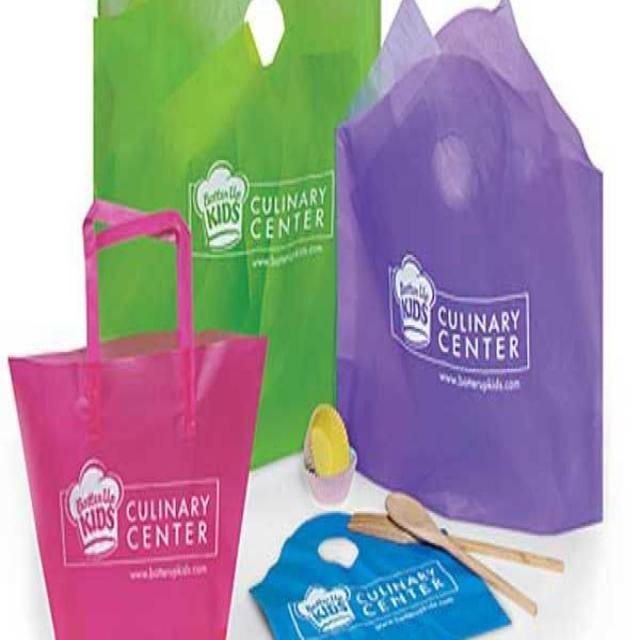plastic_bag: (316, 4, 618, 532), (59, 1, 394, 443), (10, 189, 248, 640), (250, 492, 512, 640)
